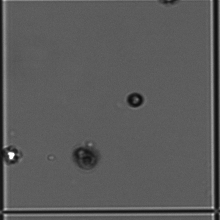Dead Cell: (74, 146, 99, 171), (125, 91, 147, 109)
Living Cell: (1, 144, 22, 166)
